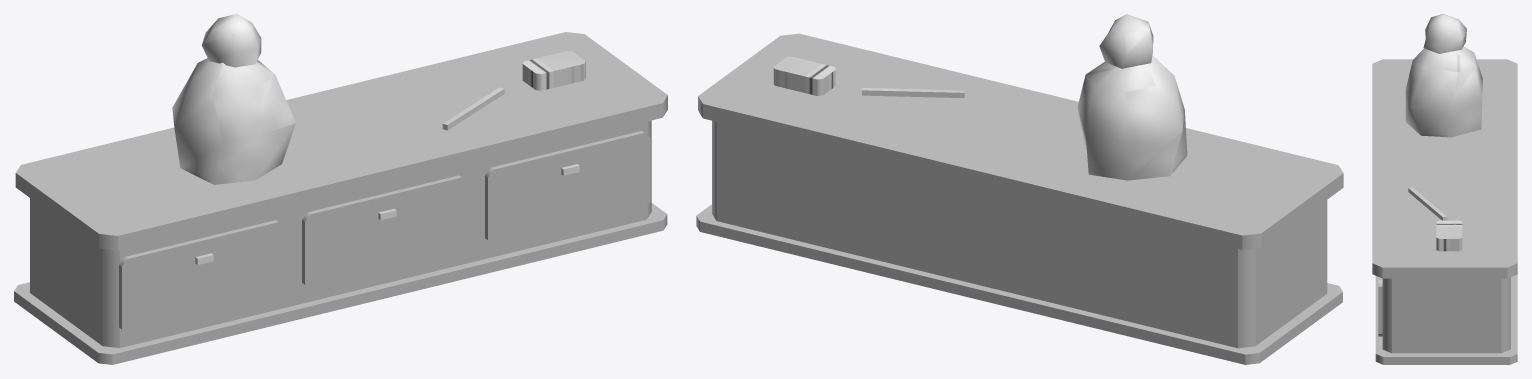
Rendered from bench_sculpting.obj.
3 renders of one model, left to right at view 1: azimuth 30°, elevation 25°; view 2: azimuth 150°, elevation 25°; view 3: azimuth 270°, elevation 25°, orthographic. The views are drawn at different scales.
Visible parts, largest first — view 1: flat_worktop, cabinet, left_door, center_door, right_door, sculpture_torso, plinth, sculpture_head, wooden_mallet, diagonal_chisel; view 2: cabinet, flat_worktop, sculpture_torso, plinth, sculpture_head, wooden_mallet, diagonal_chisel; view 3: flat_worktop, cabinet, sculpture_torso, plinth, sculpture_head, wooden_mallet, diagonal_chisel, right_door.
Boxes of the visible parts, x1=… form: flat_worktop: x1=15, y1=32, x2=667, y2=250; cabinet: x1=30, y1=120, x2=651, y2=347; left_door: x1=119, y1=220, x2=284, y2=334; center_door: x1=302, y1=175, x2=467, y2=289; right_door: x1=485, y1=131, x2=650, y2=244; sculpture_torso: x1=172, y1=58, x2=295, y2=184; plinth: x1=14, y1=203, x2=667, y2=364; sculpture_head: x1=202, y1=14, x2=261, y2=67; wooden_mallet: x1=522, y1=51, x2=585, y2=90; diagonal_chisel: x1=442, y1=87, x2=504, y2=130; cabinet: x1=712, y1=120, x2=1327, y2=348; flat_worktop: x1=698, y1=33, x2=1343, y2=249; sculpture_torso: x1=1077, y1=55, x2=1187, y2=180; plinth: x1=696, y1=204, x2=1342, y2=364; sculpture_head: x1=1099, y1=14, x2=1153, y2=68; wooden_mallet: x1=773, y1=56, x2=835, y2=95; diagonal_chisel: x1=862, y1=88, x2=964, y2=98; flat_worktop: x1=1372, y1=59, x2=1517, y2=278; cabinet: x1=1382, y1=277, x2=1510, y2=353; sculpture_torso: x1=1405, y1=46, x2=1482, y2=137; plinth: x1=1375, y1=274, x2=1517, y2=364; sculpture_head: x1=1423, y1=14, x2=1466, y2=53; wooden_mallet: x1=1436, y1=220, x2=1462, y2=251; diagonal_chisel: x1=1408, y1=187, x2=1446, y2=220; right_door: x1=1378, y1=277, x2=1382, y2=336.
Size of the model in its own units: 2.84 by 1.32 by 0.84.
